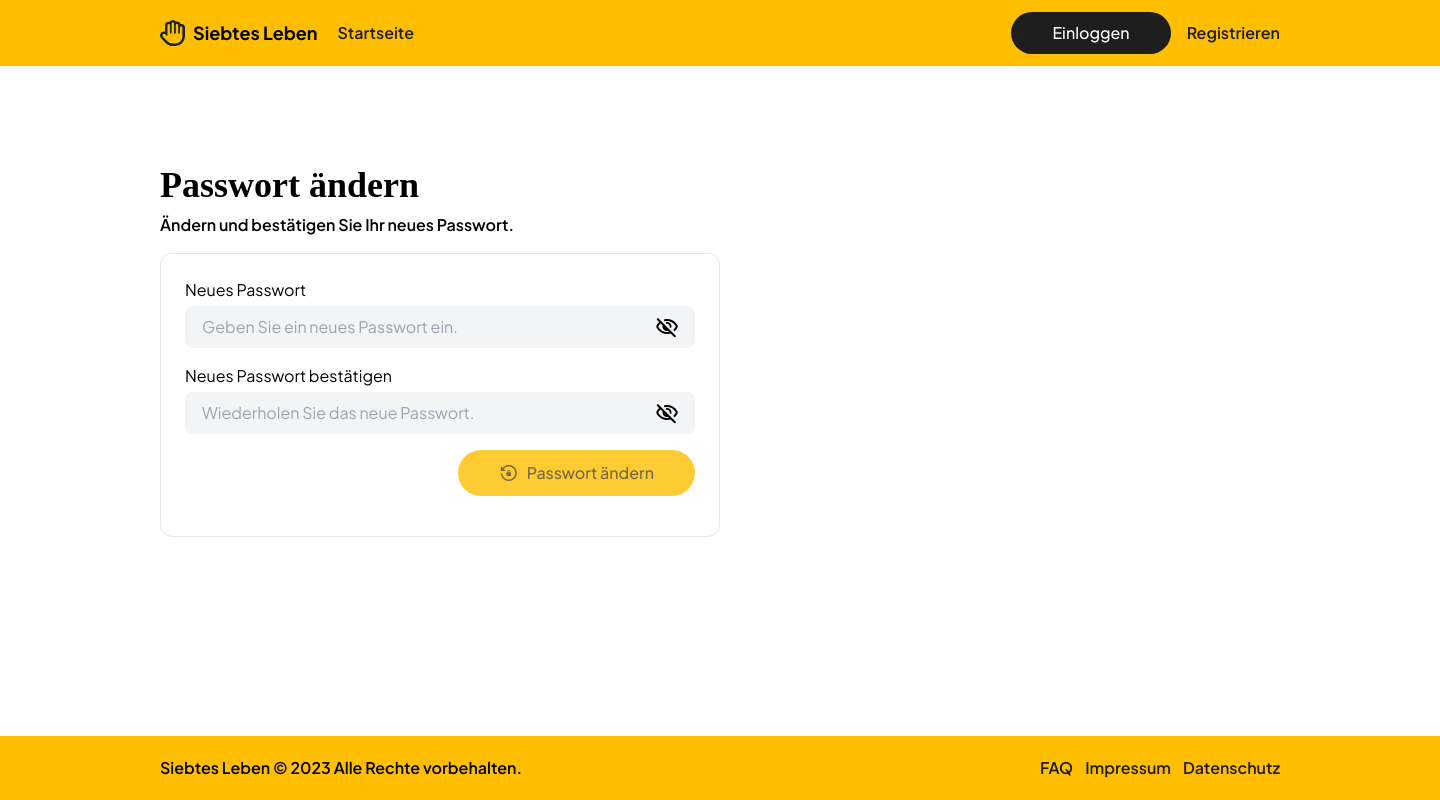
it: Forgot password › Password Change Page › Error handling › API errors › should show error when token is invalid
Step 1. Type "password1234" into the password field labelled "Neues Passwort" → point(440, 327), box [185,306,695,348]
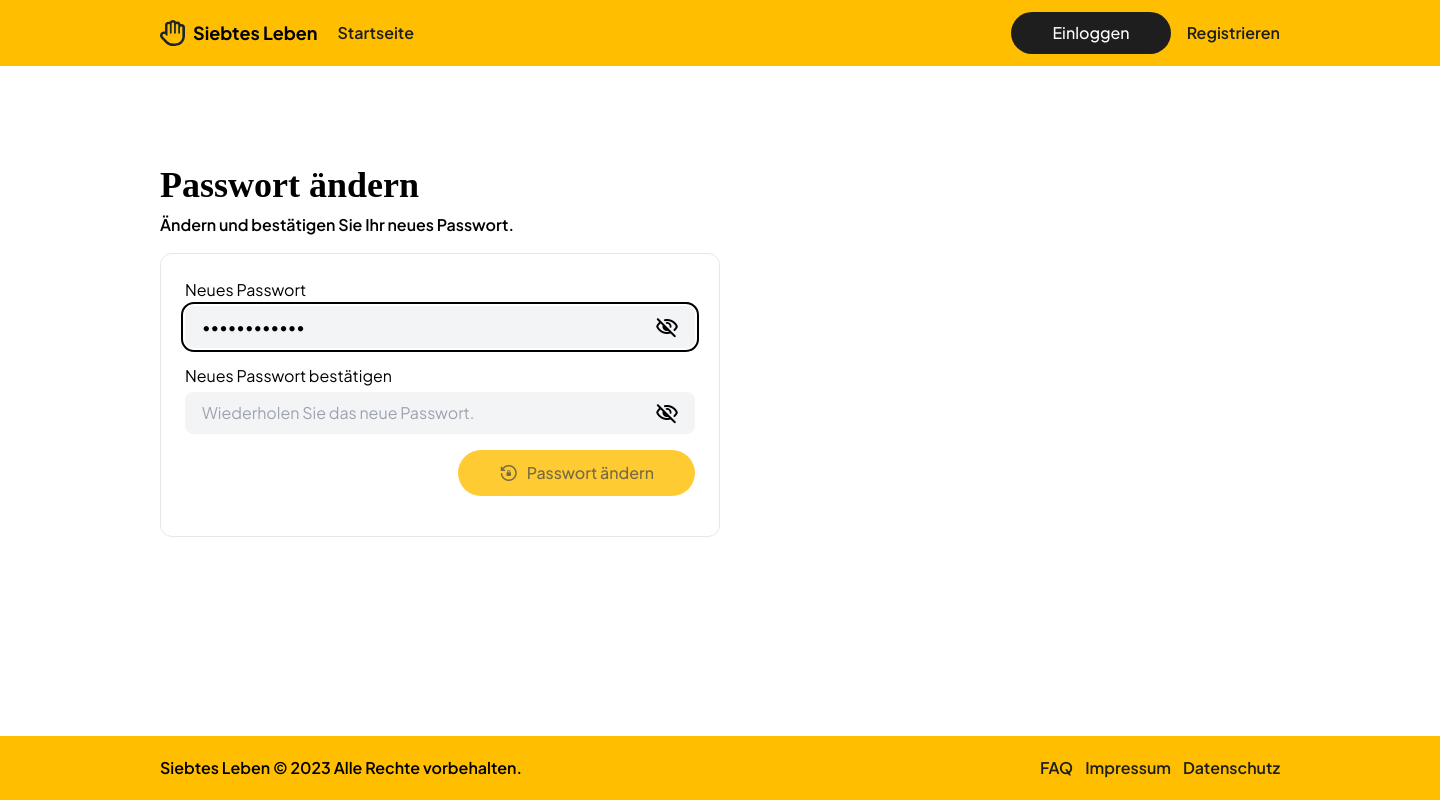
Step 2. Type "password1234" into the password field labelled "Neues Passwort bestätigen" → point(440, 413), box [185,392,695,434]
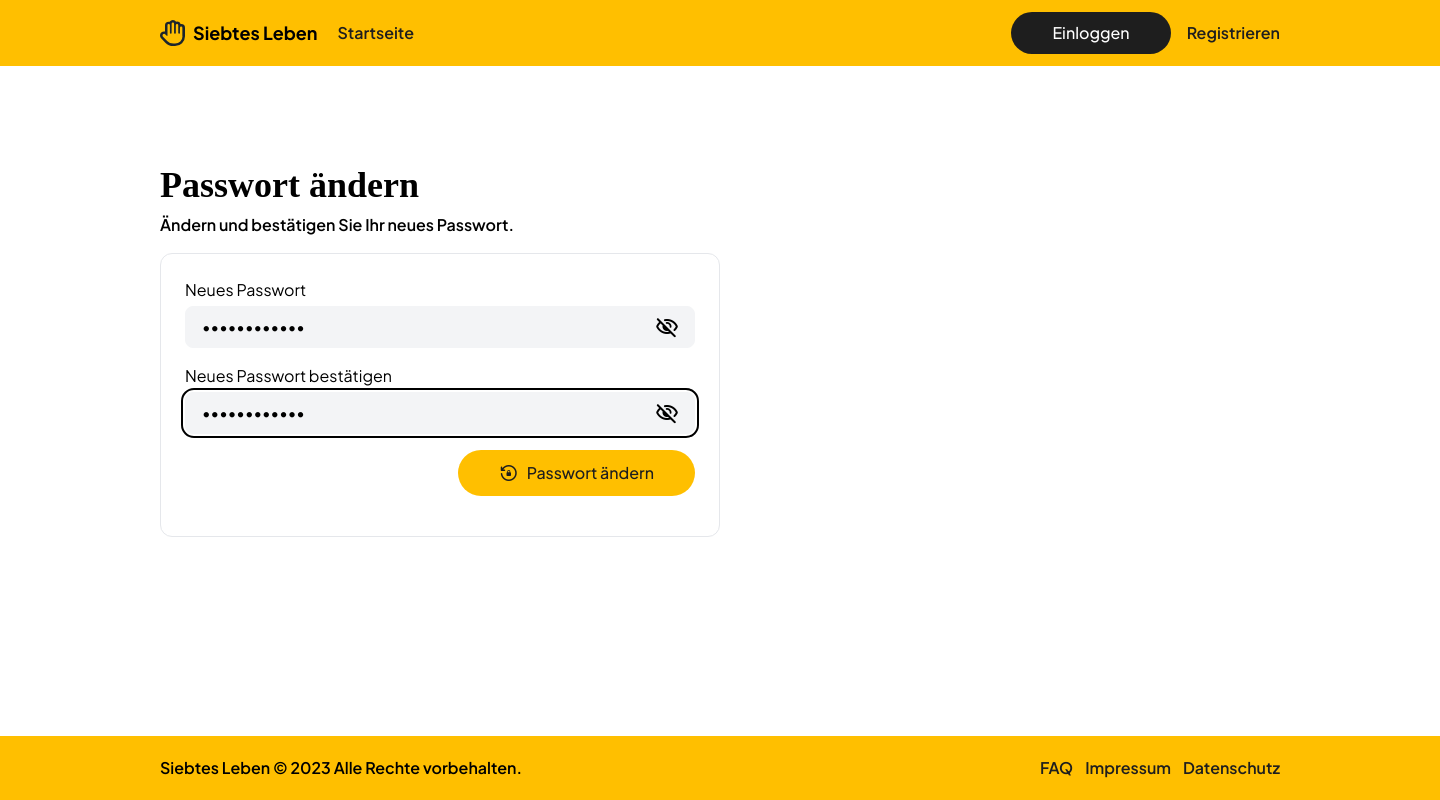
Step 3. Click the button "Passwort ändern" → point(577, 473), box [458,450,695,496]
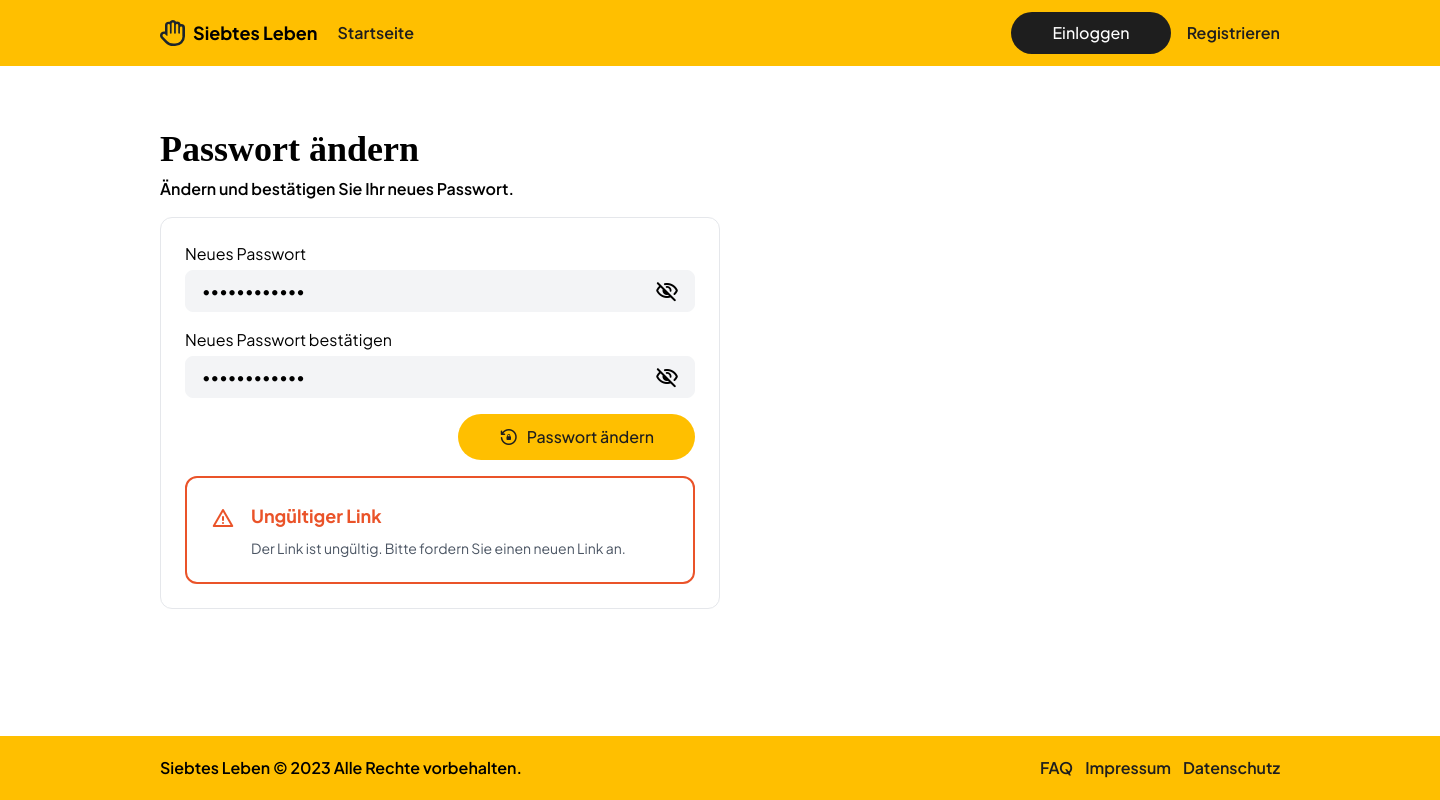
Now the heading "Ungültiger Link" is shown, box [251,504,382,527]
Now the text "Der Link ist ungültig. Bitte fordern Sie einen neuen Link an." is shown, box [251,538,626,558]
